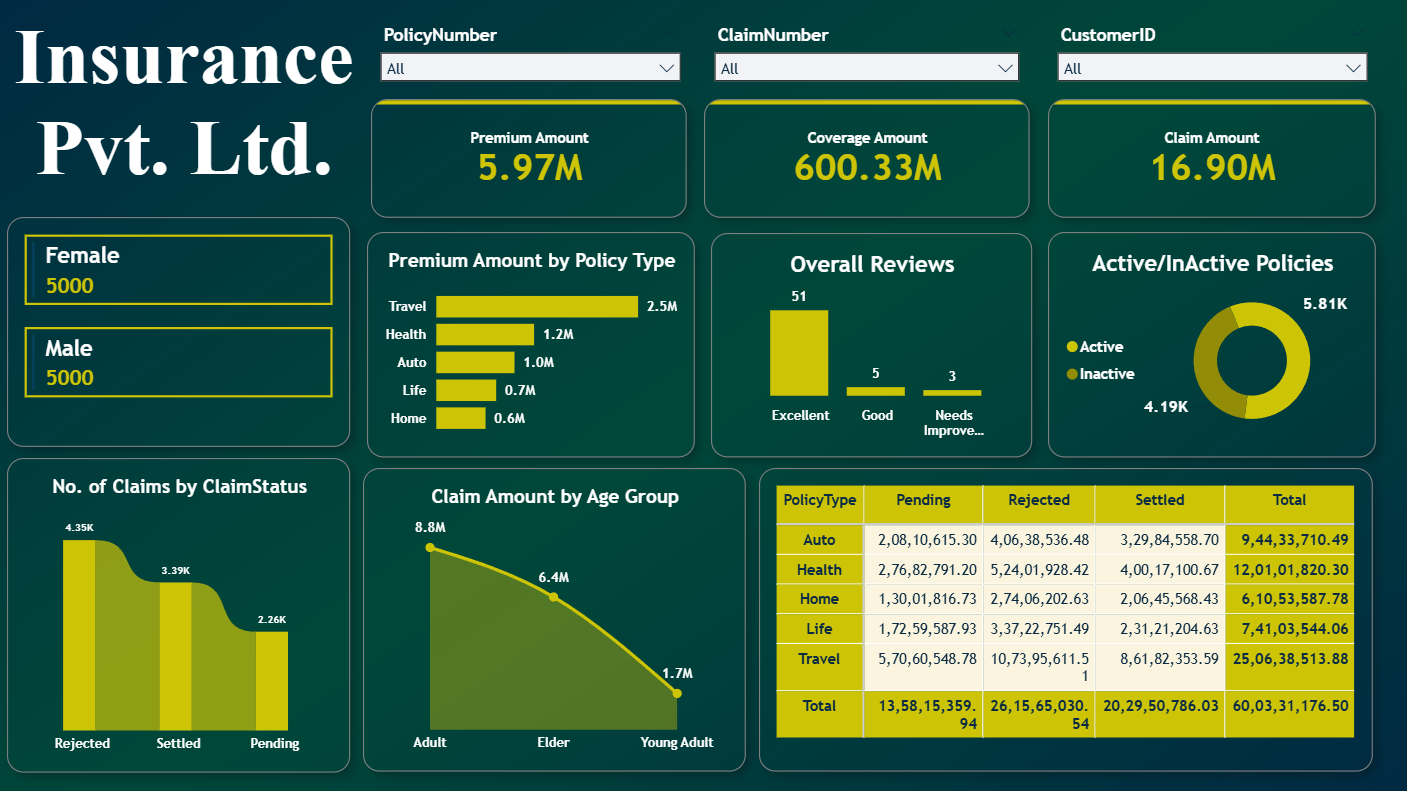

The page's visual inventory and layout, read from the dashboard file:
{"tool":"powerbi","page":{"name":"Page 1","canvas":[1280,720],"ordinal":0},"visuals":[{"type":"slicer","fields":{"Values":["InsuranceData.PolicyNumber"]},"box":[342.2,23.1,282.7,67.6],"z":0},{"type":"slicer","fields":{"Values":["InsuranceData.ClaimNumber"]},"box":[645.3,23.1,287.1,67.6],"z":1000},{"type":"slicer","fields":{"Values":["InsuranceData.CustomerID"]},"box":[957.3,23.1,291.6,67.6],"z":2000},{"type":"textbox","box":[7.1,10.7,321.8,207.1],"z":3000},{"type":"cardVisual","fields":{"Data":["Sum(InsuranceData.PremiumAmount)"]},"box":[337.8,90.7,287.1,107.6],"z":4000},{"type":"cardVisual","fields":{"Data":["Sum(InsuranceData.CoverageAmount)"]},"box":[641.3,90.7,296,107.6],"z":5000},{"type":"cardVisual","fields":{"Data":["Sum(InsuranceData.ClaimAmount)"]},"box":[953.8,90.7,297.8,107.6],"z":6000},{"type":"multiRowCard","fields":{"Values":["InsuranceData.Gender","CountNonNull(InsuranceData.Gender)"]},"box":[7.1,198.2,312,208.9],"z":7000},{"type":"ribbonChart","title":"No. of Claims by ClaimStatus","fields":{"Category":["InsuranceData.ClaimStatus"],"Y":["CountNonNull(InsuranceData.ClaimStatus)"]},"box":[7.1,416.9,312,286.2],"z":8000},{"type":"barChart","title":"Premium Amount by Policy Type","fields":{"Category":["InsuranceData.PolicyType"],"Y":["Sum(InsuranceData.PremiumAmount)"]},"box":[334.2,211.6,297.8,205.3],"z":9000},{"type":"lineChart","title":" Claim Amount by Age Group","fields":{"Category":["InsuranceData.Age Group"],"Y":["Sum(InsuranceData.ClaimAmount)"]},"box":[331.1,426.7,347.6,276.4],"z":10000},{"type":"donutChart","title":"Active/InActive Policies","fields":{"Category":["InsuranceData.Active/Inactive"],"Y":["CountNonNull(InsuranceData.Active/Inactive)"]},"box":[953.8,211.6,297.8,205.3],"z":11000},{"type":"pivotTable","fields":{"Values":["Sum(InsuranceData.CoverageAmount)"],"Rows":["InsuranceData.PolicyType"],"Columns":["InsuranceData.ClaimStatus"]},"box":[690.7,426.7,558.2,276.4],"z":12000},{"type":"lineStackedColumnComboChart","title":"Overall Reviews","fields":{"Y":["Sum(Sheet1.Score sentiment)"],"Category":["Sheet1.Reviews"]},"box":[647.1,212.4,291.6,204.4],"z":13000}]}

Visuals, with their boxes in screenshot pixels (x1, y1, x2, y2), scaled from the page's 1280x720 canvas onto the 1407x791 screenshot:
slicer - InsuranceData.PolicyNumber: 376,25,687,100
slicer - InsuranceData.ClaimNumber: 709,25,1025,100
slicer - InsuranceData.CustomerID: 1052,25,1373,100
textbox: 8,12,362,239
cardVisual - Sum(InsuranceData.PremiumAmount): 371,100,687,218
cardVisual - Sum(InsuranceData.CoverageAmount): 705,100,1030,218
cardVisual - Sum(InsuranceData.ClaimAmount): 1048,100,1376,218
multiRowCard - InsuranceData.Gender x CountNonNull(InsuranceData.Gender): 8,218,351,447
"No. of Claims by ClaimStatus" ribbonChart: 8,458,351,772
"Premium Amount by Policy Type" barChart: 367,232,695,458
" Claim Amount by Age Group" lineChart: 364,469,746,772
"Active/InActive Policies" donutChart: 1048,232,1376,458
pivotTable - Sum(InsuranceData.CoverageAmount) x InsuranceData.PolicyType: 759,469,1373,772
"Overall Reviews" lineStackedColumnComboChart: 711,233,1032,458
